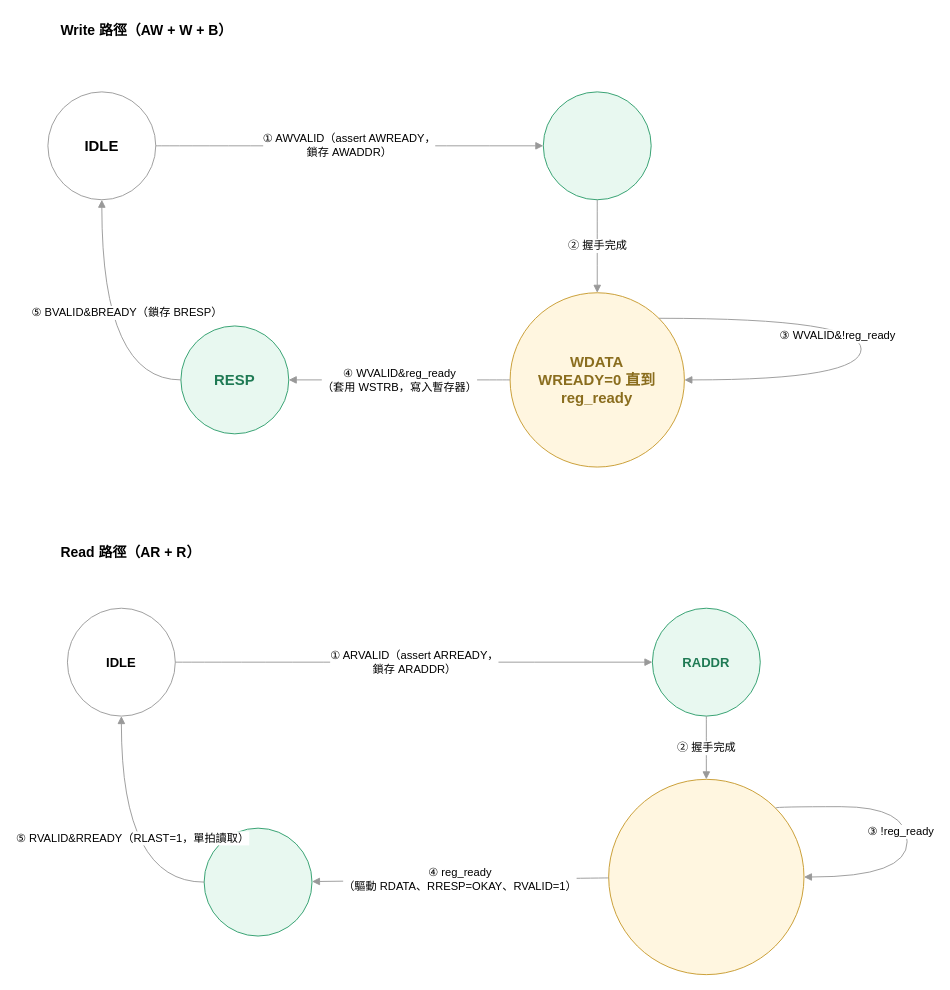
Image size: 950x990. Some labels were removed from this diagram. Each missing label, with the centre of its shape:
RDATA: (x=257, y=881)
READ_WAIT !reg_ready（RX FIFO 空）: (x=706, y=876)
WADDR: (x=596, y=145)
